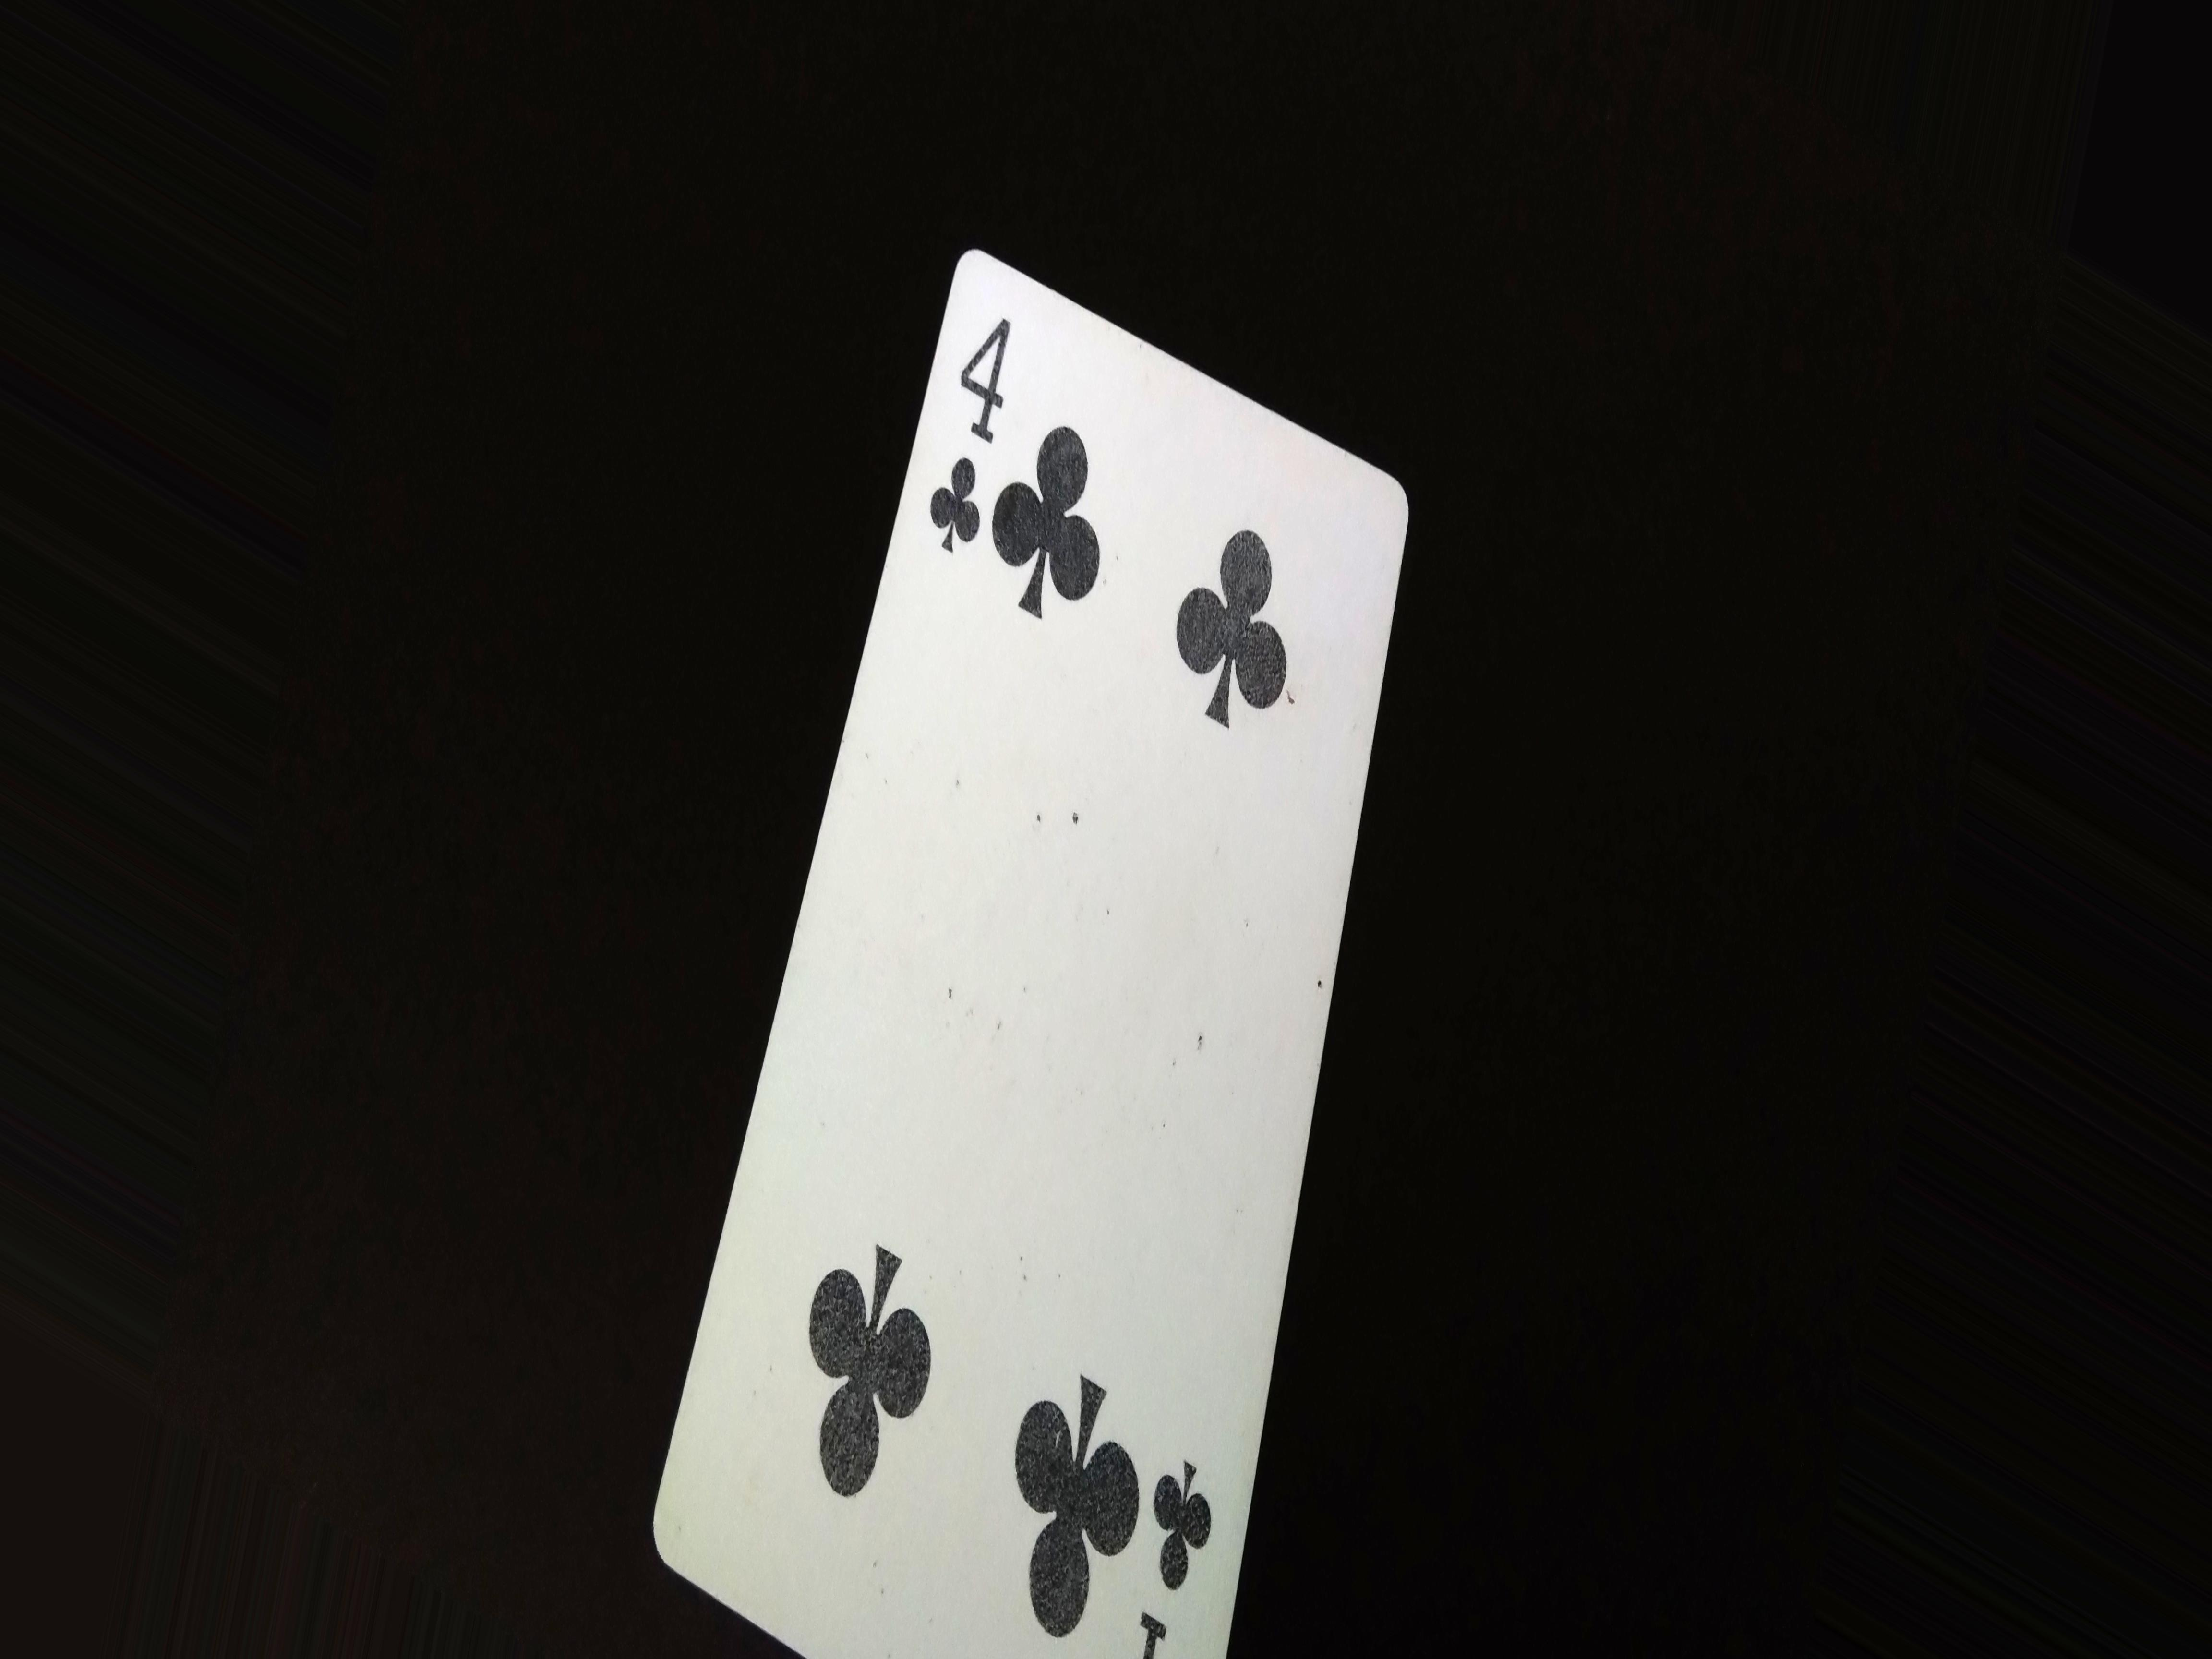4C: (920, 315, 1021, 566)
